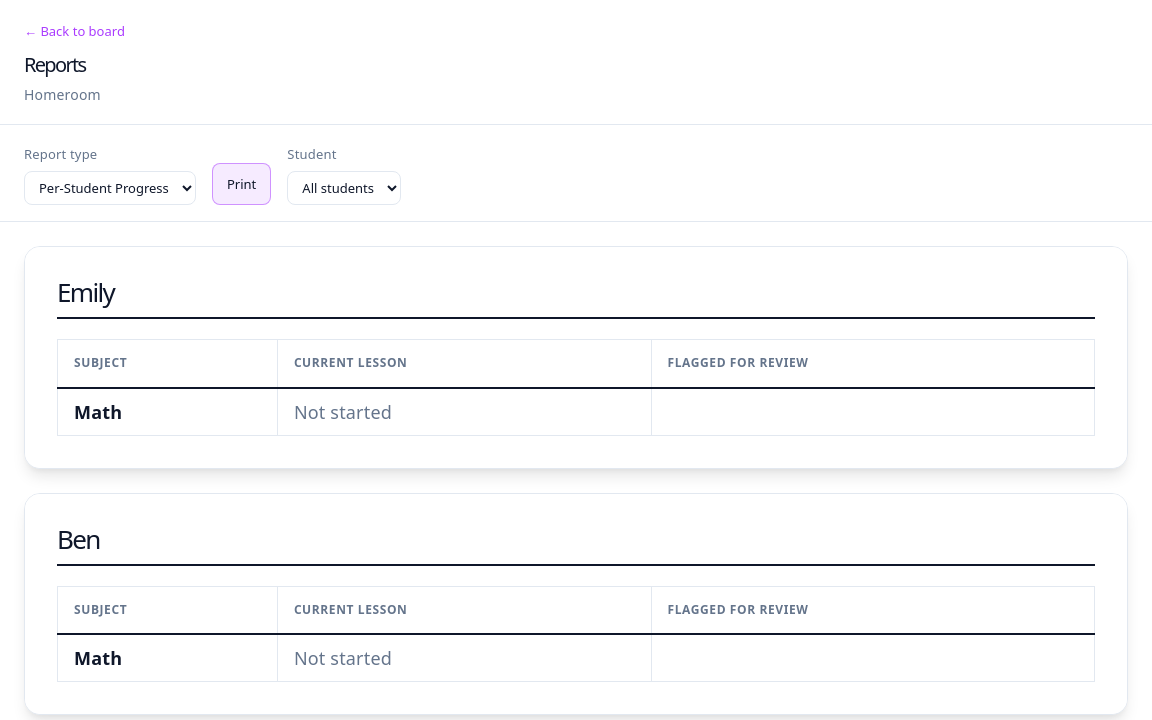
Reports › narrows the per-student report to one student when picked from the student dropdown
The width and height of the screenshot is (1152, 720).
Select "Ben" in the dropdown labelled "Student" at coordinates (344, 188), box x1=287 y1=171 x2=401 y2=205
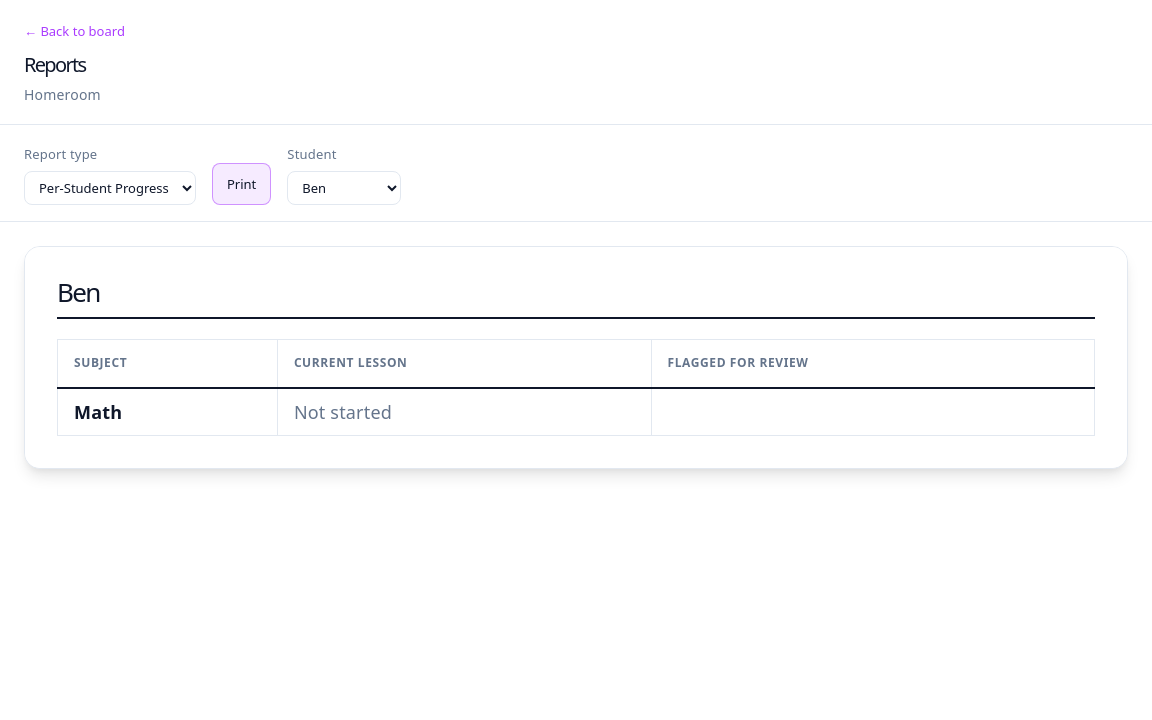
Expected: the heading "Ben" is shown, x1=57 y1=279 x2=1095 y2=320
Now the heading "Emily" is gone
